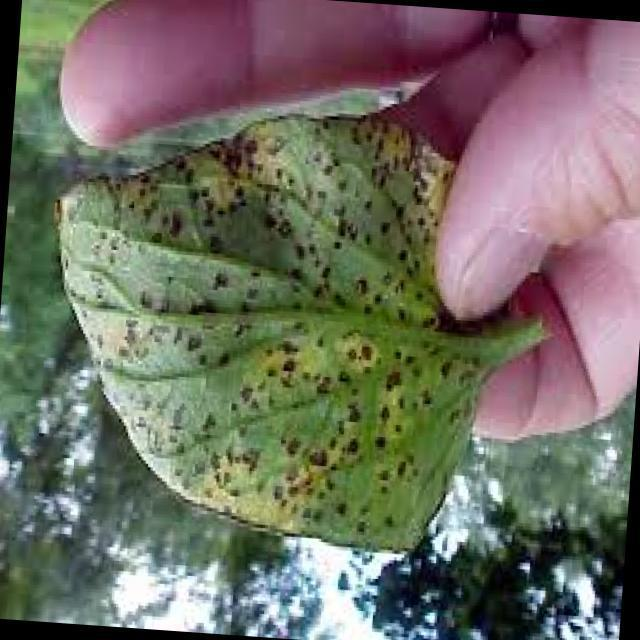Bacterial Spot: (65, 142, 448, 506)
